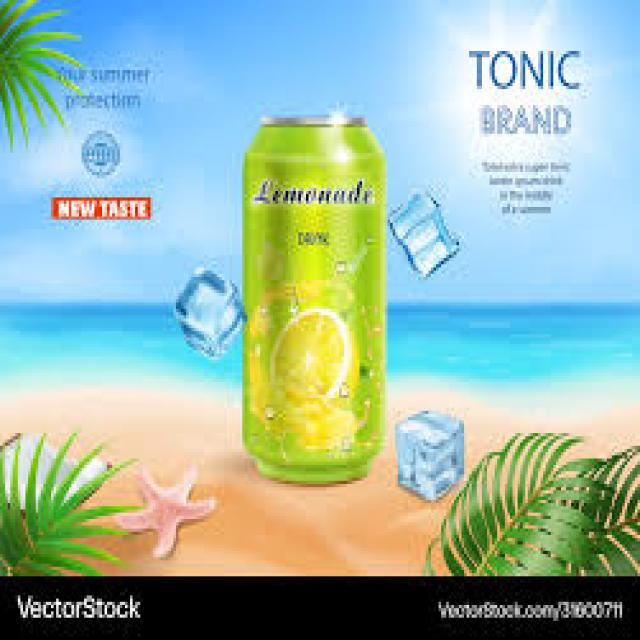Cans: (237, 99, 390, 490)
